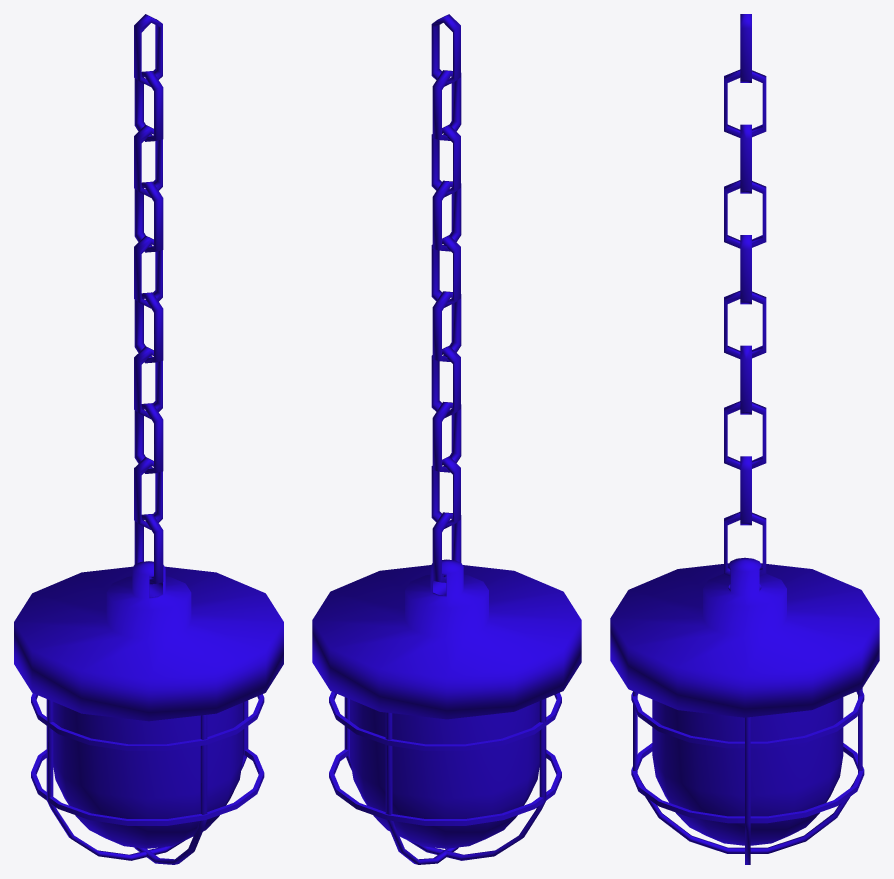
File: hanging light.fbx
3 renders of one model, left to right at view 1: azimuth 30°, elevation 25°; view 2: azimuth 150°, elevation 25°; view 3: azimuth 270°, elevation 25°, orthographic.
Parts seen in each view (by area): view 1: Pub Lamp Top, Lamp Outer Glass, Chain link, Lamp support004, Lamp support001, Lamp support002, Lamp support003; view 2: Pub Lamp Top, Lamp Outer Glass, Chain link, Lamp support004, Lamp support001, Lamp support002, Lamp support003; view 3: Pub Lamp Top, Lamp Outer Glass, Chain link, Lamp support004, Lamp support003, Lamp support001, Lamp support002.
Boxes of the visible parts, x1=… form: Pub Lamp Top: x1=14, y1=561, x2=283, y2=721; Lamp Outer Glass: x1=53, y1=702, x2=242, y2=848; Chain link: x1=134, y1=14, x2=163, y2=584; Lamp support004: x1=31, y1=749, x2=264, y2=825; Lamp support001: x1=31, y1=693, x2=264, y2=750; Lamp support002: x1=46, y1=699, x2=248, y2=860; Lamp support003: x1=134, y1=714, x2=207, y2=864; Pub Lamp Top: x1=312, y1=559, x2=581, y2=719; Lamp Outer Glass: x1=350, y1=699, x2=539, y2=848; Chain link: x1=431, y1=14, x2=461, y2=582; Lamp support004: x1=329, y1=749, x2=561, y2=825; Lamp support001: x1=329, y1=692, x2=561, y2=750; Lamp support002: x1=344, y1=697, x2=546, y2=860; Lamp support003: x1=385, y1=712, x2=458, y2=864; Pub Lamp Top: x1=610, y1=557, x2=879, y2=717; Lamp Outer Glass: x1=652, y1=697, x2=843, y2=845; Chain link: x1=724, y1=14, x2=766, y2=576; Lamp support004: x1=631, y1=743, x2=864, y2=823; Lamp support003: x1=633, y1=688, x2=862, y2=853; Lamp support001: x1=631, y1=691, x2=864, y2=748; Lamp support002: x1=745, y1=717, x2=750, y2=864.
Size of the model in its own units: 8.44 by 29 by 8.44.
